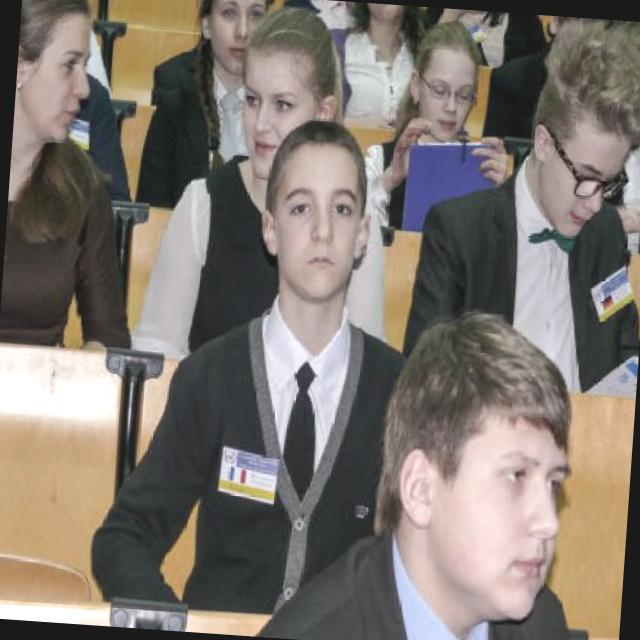Person: (73, 96, 446, 628), (262, 303, 594, 640), (126, 0, 403, 370), (395, 6, 640, 388), (0, 0, 155, 363), (350, 11, 510, 269), (123, 0, 276, 227), (316, 0, 443, 139), (441, 8, 554, 75), (607, 20, 640, 248)
